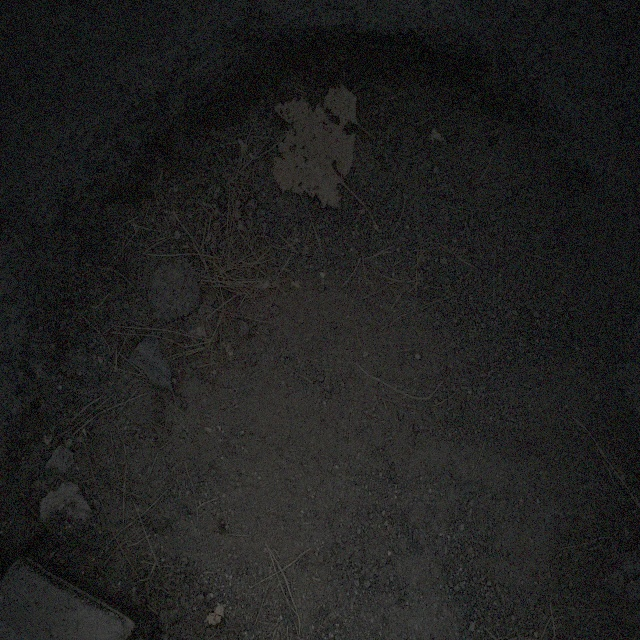pothole: (79, 16, 582, 252)
